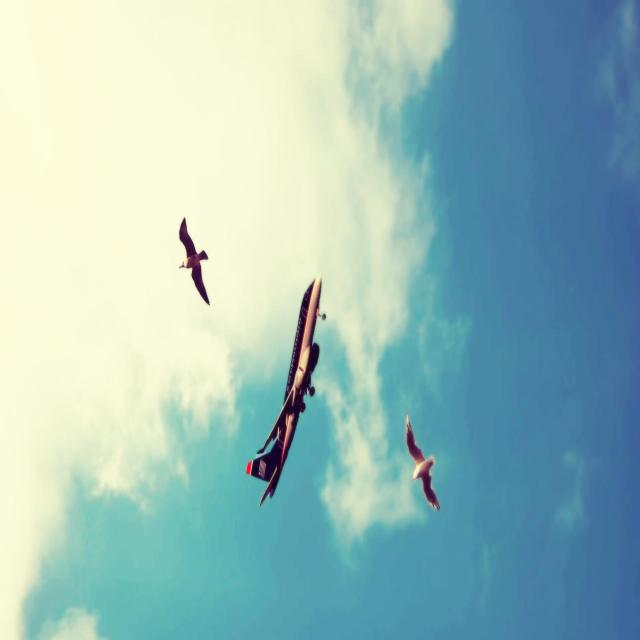airplane: (245, 274, 327, 507)
